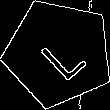L_NW: (30, 24, 88, 82)
